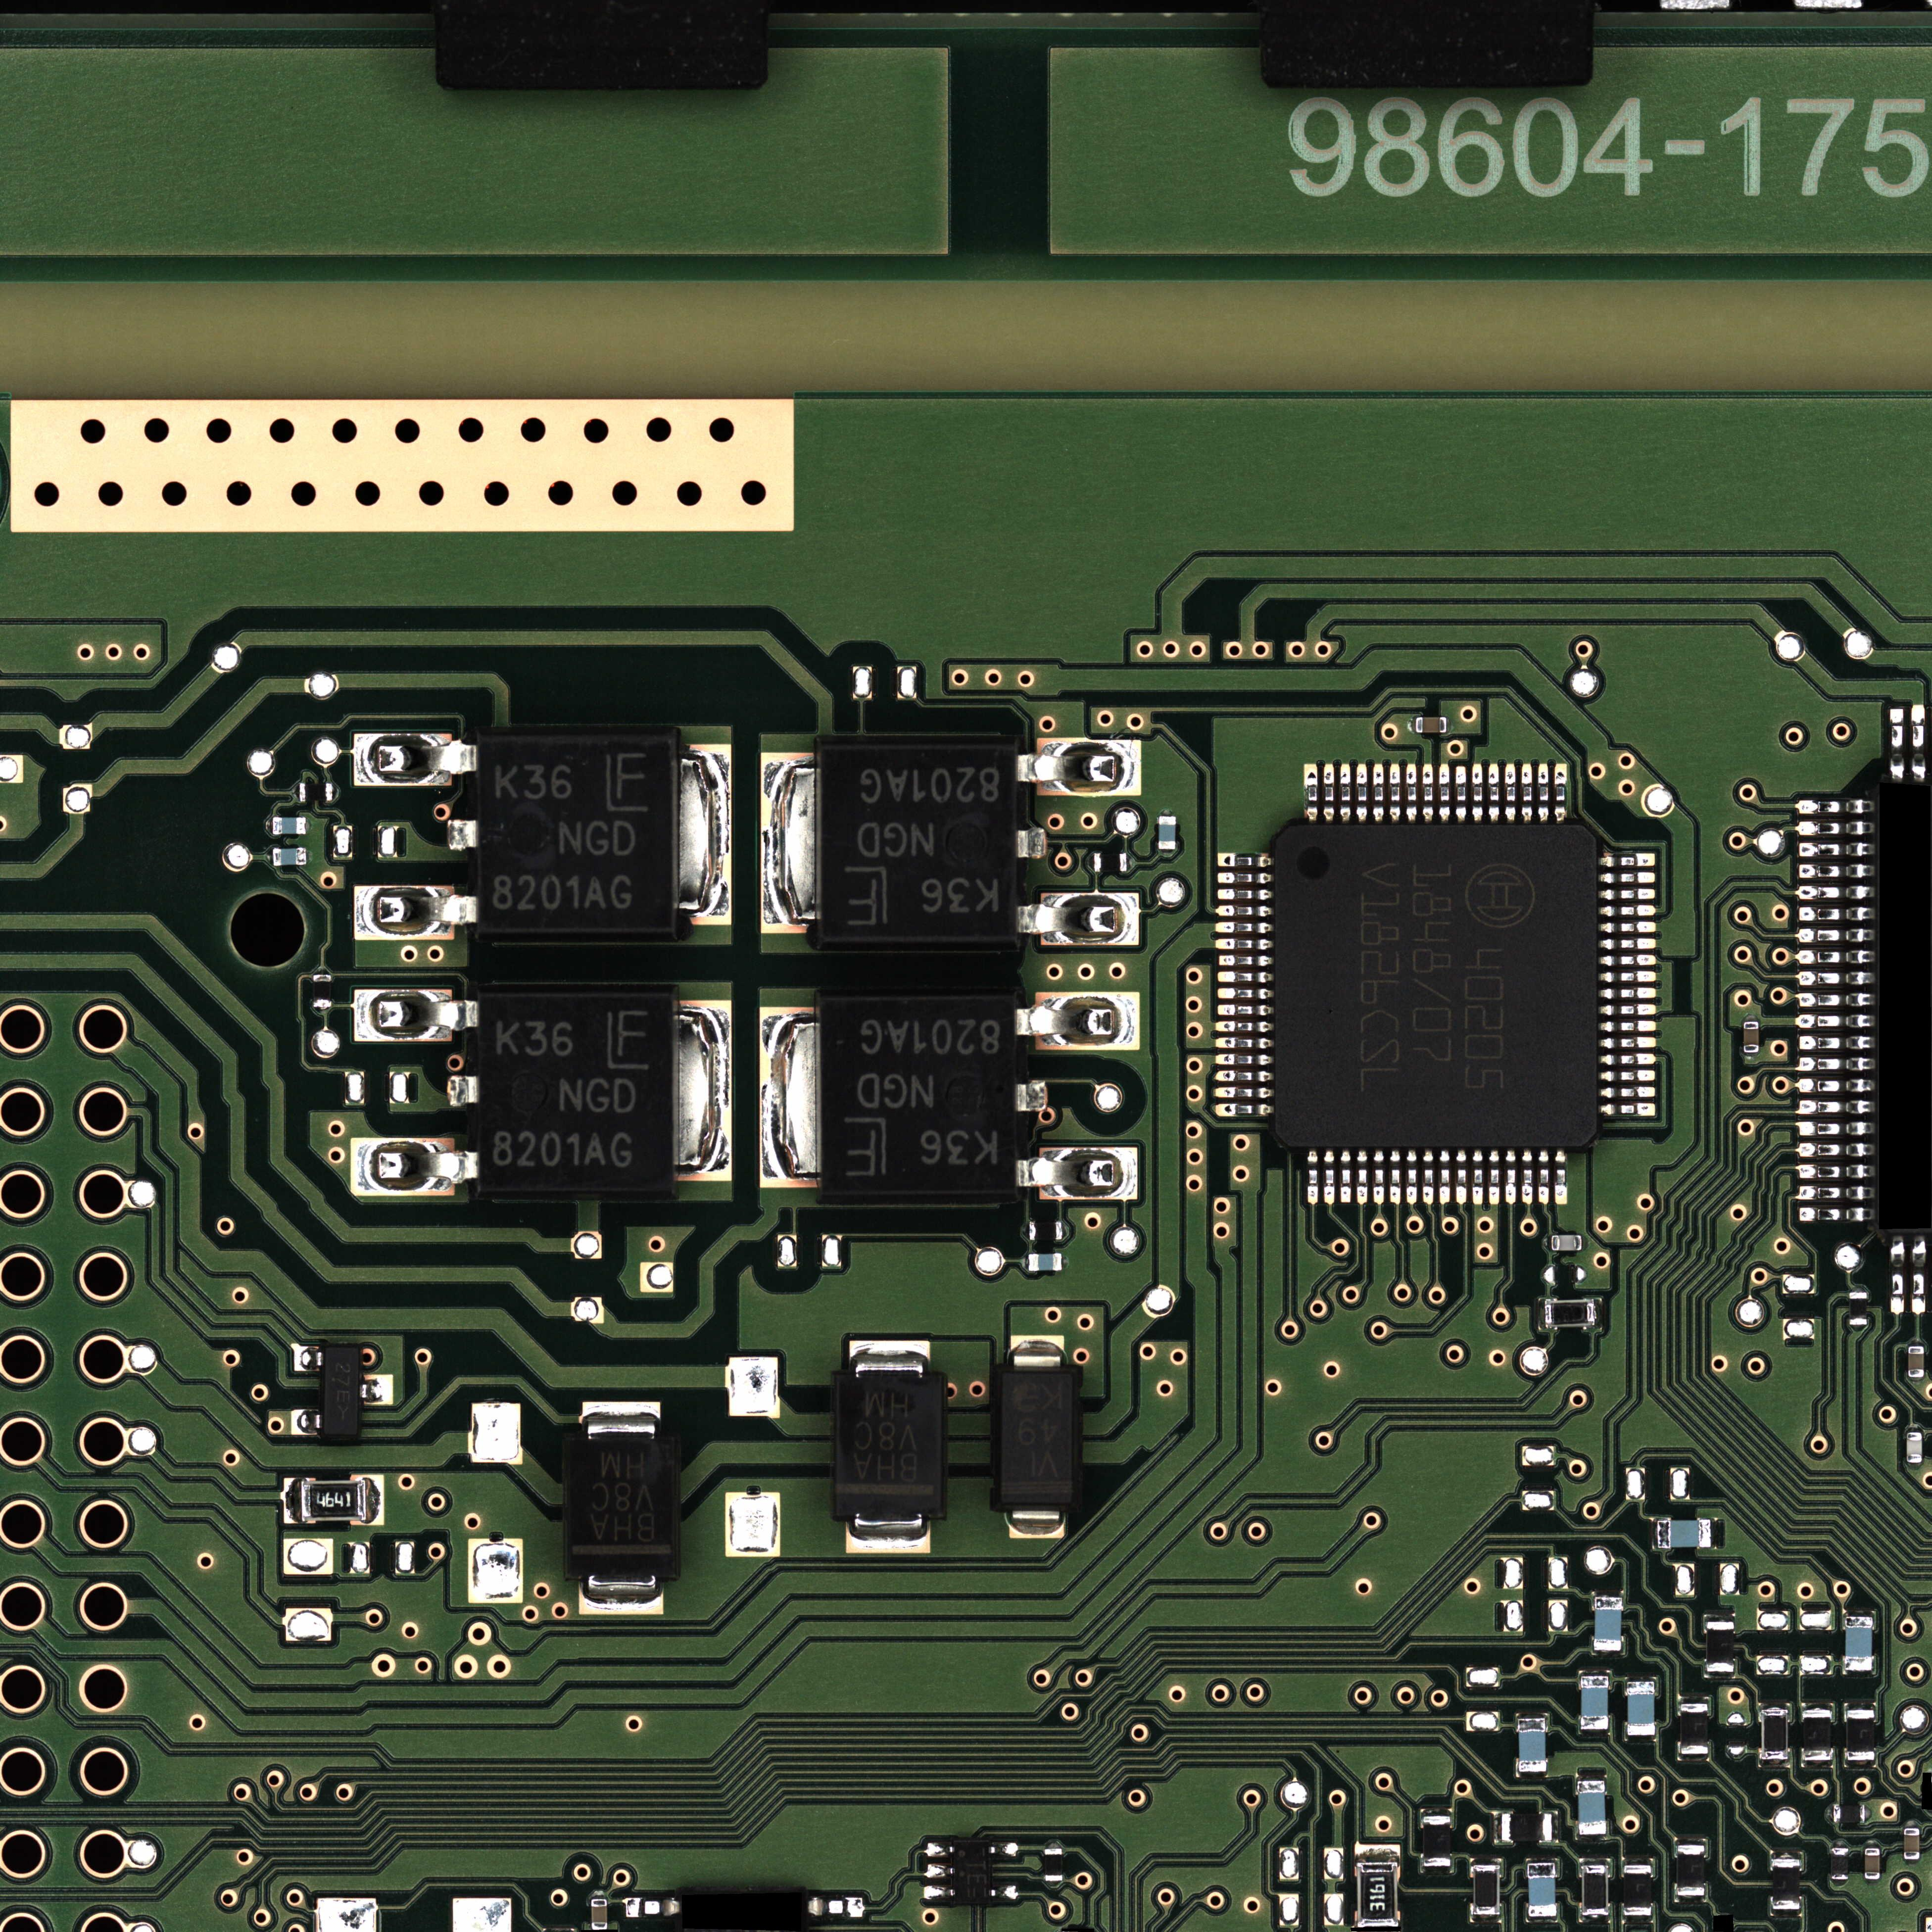Package: (1272, 821, 1599, 1150), (476, 734, 679, 936), (817, 741, 1017, 945), (478, 993, 676, 1194), (819, 996, 1016, 1198), (566, 1440, 674, 1576), (835, 1378, 943, 1513), (1000, 1373, 1072, 1506), (322, 1345, 359, 1437), (1357, 1863, 1399, 1927), (301, 1481, 366, 1522), (954, 1840, 989, 1902), (1594, 1596, 1622, 1651), (1578, 1780, 1606, 1835), (1580, 1675, 1608, 1729), (1422, 1815, 1451, 1867), (1845, 1617, 1872, 1670), (1628, 1683, 1654, 1736), (1529, 1863, 1555, 1916), (1658, 1522, 1711, 1548), (1502, 1813, 1552, 1842), (1518, 1721, 1546, 1771), (1706, 1622, 1734, 1672), (1847, 1709, 1874, 1760), (1805, 1709, 1831, 1760), (1624, 1865, 1651, 1916), (1545, 1300, 1594, 1327), (1681, 1704, 1707, 1753), (1773, 1859, 1799, 1909), (1677, 1845, 1704, 1895), (1762, 1709, 1787, 1759), (1474, 1865, 1499, 1914), (1583, 1865, 1606, 1914), (299, 782, 333, 801), (1849, 1292, 1868, 1325), (1093, 853, 1127, 872), (272, 847, 306, 865), (1159, 816, 1177, 849), (272, 817, 306, 835), (1030, 1223, 1063, 1240), (1044, 1849, 1062, 1881), (1833, 1805, 1865, 1822), (313, 975, 331, 1007), (1028, 1254, 1062, 1270), (1831, 1849, 1849, 1879), (591, 1900, 609, 1930), (1904, 1828, 1920, 1859), (1415, 717, 1447, 732), (1552, 1235, 1582, 1251), (1909, 1346, 1925, 1376), (1865, 1847, 1879, 1879), (1744, 1021, 1759, 1053), (1907, 1433, 1921, 1463)
Solder: (759, 1007, 819, 1187), (761, 752, 816, 932), (676, 1001, 731, 1180), (679, 745, 731, 922), (1016, 991, 1139, 1051), (350, 1138, 478, 1196), (1017, 738, 1141, 796), (354, 885, 476, 939), (1019, 892, 1139, 947), (354, 989, 478, 1042), (354, 732, 476, 786), (1017, 1146, 1138, 1200), (846, 1513, 931, 1553), (849, 1339, 932, 1378), (579, 1578, 663, 1615), (582, 1401, 662, 1438), (1010, 1336, 1065, 1371), (1008, 1506, 1065, 1539), (807, 1893, 867, 1920), (1909, 704, 1928, 782), (1794, 798, 1875, 816), (1794, 819, 1875, 837), (1796, 927, 1877, 945), (1796, 948, 1877, 966), (1794, 1120, 1875, 1138), (1888, 1235, 1905, 1316), (1888, 702, 1905, 782), (1796, 1141, 1875, 1159), (1911, 1235, 1928, 1315), (1796, 906, 1877, 922), (1796, 885, 1877, 901), (1794, 863, 1875, 879), (1796, 971, 1877, 987), (1794, 993, 1875, 1008), (1794, 1035, 1875, 1051), (1794, 1056, 1875, 1072), (1794, 1099, 1875, 1115), (1794, 1164, 1875, 1180), (1796, 1185, 1877, 1201), (1796, 1207, 1877, 1223), (621, 1897, 681, 1918), (1796, 842, 1875, 858), (1796, 1014, 1875, 1030), (1796, 1077, 1875, 1093), (361, 1375, 393, 1405), (1017, 828, 1047, 858), (1017, 1081, 1047, 1111), (366, 1476, 384, 1525), (1553, 763, 1568, 823), (1304, 763, 1318, 823), (448, 821, 478, 849), (448, 1076, 476, 1106), (283, 1477, 301, 1525), (1214, 1102, 1272, 1116), (1599, 853, 1656, 867), (1599, 1102, 1656, 1116), (1355, 1844, 1399, 1861), (1217, 853, 1272, 867), (290, 1410, 320, 1435), (294, 1346, 324, 1371), (1504, 763, 1516, 823), (1537, 763, 1550, 823), (1438, 763, 1451, 823), (1339, 763, 1352, 823), (1214, 1070, 1272, 1083), (1599, 1003, 1658, 1016), (1214, 1086, 1272, 1099), (1389, 764, 1401, 823), (1599, 1086, 1656, 1099), (1599, 1053, 1656, 1065), (1599, 888, 1656, 901), (1599, 987, 1656, 1000), (1215, 1053, 1272, 1065), (1599, 904, 1656, 916), (1217, 987, 1274, 1000), (1215, 888, 1272, 901), (1599, 1037, 1656, 1049), (1215, 1037, 1272, 1049), (1215, 904, 1272, 916), (1599, 938, 1656, 950), (1215, 938, 1272, 950), (1215, 922, 1272, 934), (1217, 872, 1272, 885), (1217, 971, 1272, 984), (1555, 1150, 1568, 1205), (1472, 763, 1483, 823), (1488, 763, 1499, 823), (1522, 763, 1532, 823), (1422, 763, 1433, 823), (1373, 763, 1384, 823), (1357, 763, 1368, 823), (1407, 763, 1417, 823), (1599, 1021, 1658, 1031), (1323, 764, 1334, 823), (1599, 1070, 1656, 1081), (1599, 971, 1656, 982), (1599, 872, 1656, 883), (1599, 955, 1656, 966), (1599, 922, 1656, 932), (1215, 1021, 1272, 1031), (1217, 1005, 1274, 1016), (1456, 766, 1467, 823), (1217, 955, 1272, 966), (1373, 1150, 1384, 1205), (1472, 1150, 1483, 1205), (1456, 1150, 1467, 1205), (1539, 1150, 1550, 1205), (1522, 1150, 1532, 1205), (1391, 1150, 1401, 1205), (1307, 1150, 1318, 1205), (1357, 1150, 1368, 1205), (1440, 1150, 1451, 1205), (1490, 1150, 1500, 1205), (1407, 1150, 1417, 1205), (1422, 1150, 1433, 1205), (1506, 1150, 1516, 1205), (1323, 1150, 1334, 1205), (1341, 1150, 1352, 1203), (991, 1884, 1017, 1900), (925, 1842, 954, 1856), (925, 1863, 954, 1877), (989, 1842, 1017, 1856), (924, 1886, 954, 1898), (1771, 1851, 1803, 1859), (1803, 1760, 1835, 1769), (1704, 1614, 1736, 1622), (1470, 1914, 1502, 1923), (1580, 1914, 1612, 1923), (1594, 1299, 1603, 1329), (1771, 1909, 1801, 1918), (1760, 1759, 1790, 1767), (1624, 1736, 1658, 1743), (1421, 1808, 1453, 1815), (1844, 1670, 1875, 1677), (1677, 1753, 1709, 1760), (1844, 1760, 1875, 1767), (1844, 1610, 1875, 1617), (1470, 1858, 1502, 1865), (1580, 1729, 1612, 1736), (1527, 1916, 1559, 1923), (1516, 1771, 1548, 1778), (1801, 1702, 1833, 1709), (1759, 1702, 1790, 1709), (1704, 1672, 1736, 1679), (1651, 1518, 1658, 1550), (1422, 1867, 1453, 1874), (1537, 1299, 1545, 1329), (1679, 1697, 1709, 1704), (1845, 1702, 1875, 1709), (1580, 1858, 1610, 1865), (1580, 1668, 1610, 1675), (1594, 1591, 1624, 1598), (1576, 1835, 1606, 1842), (1495, 1812, 1502, 1842), (1622, 1858, 1652, 1865), (1552, 1812, 1559, 1842), (1711, 1518, 1718, 1548), (1622, 1916, 1652, 1923), (1677, 1895, 1706, 1902), (1527, 1858, 1559, 1863), (1516, 1713, 1548, 1718), (1592, 1651, 1624, 1656), (1626, 1675, 1656, 1681), (1576, 1775, 1606, 1780), (1907, 1338, 1925, 1346), (1675, 1838, 1704, 1844), (1713, 1914, 1734, 1921), (1849, 1284, 1868, 1292), (1062, 1253, 1069, 1272), (1044, 1842, 1063, 1849), (1849, 1325, 1868, 1332), (1159, 849, 1177, 856), (1159, 809, 1177, 816), (1062, 1223, 1069, 1240), (265, 817, 272, 835), (1826, 1805, 1833, 1822), (1023, 1223, 1030, 1240), (1907, 1376, 1925, 1384), (313, 968, 331, 975), (1408, 717, 1415, 732), (306, 817, 313, 833), (1046, 1881, 1062, 1888), (1907, 1426, 1923, 1433), (1447, 717, 1454, 732), (306, 849, 313, 865), (294, 782, 299, 801), (1023, 1253, 1028, 1272), (1865, 1806, 1872, 1821), (1127, 855, 1132, 872), (333, 784, 338, 801), (1831, 1879, 1849, 1884), (1088, 853, 1093, 870), (267, 847, 272, 865), (313, 1007, 331, 1012), (1904, 1822, 1920, 1828), (1865, 1879, 1881, 1884), (1904, 1859, 1920, 1865), (1831, 1842, 1847, 1847), (1743, 1016, 1759, 1021), (1907, 1463, 1923, 1468), (1743, 1053, 1759, 1058), (1582, 1235, 1587, 1251), (591, 1893, 607, 1898), (1548, 1235, 1552, 1251), (1865, 1844, 1879, 1847)
